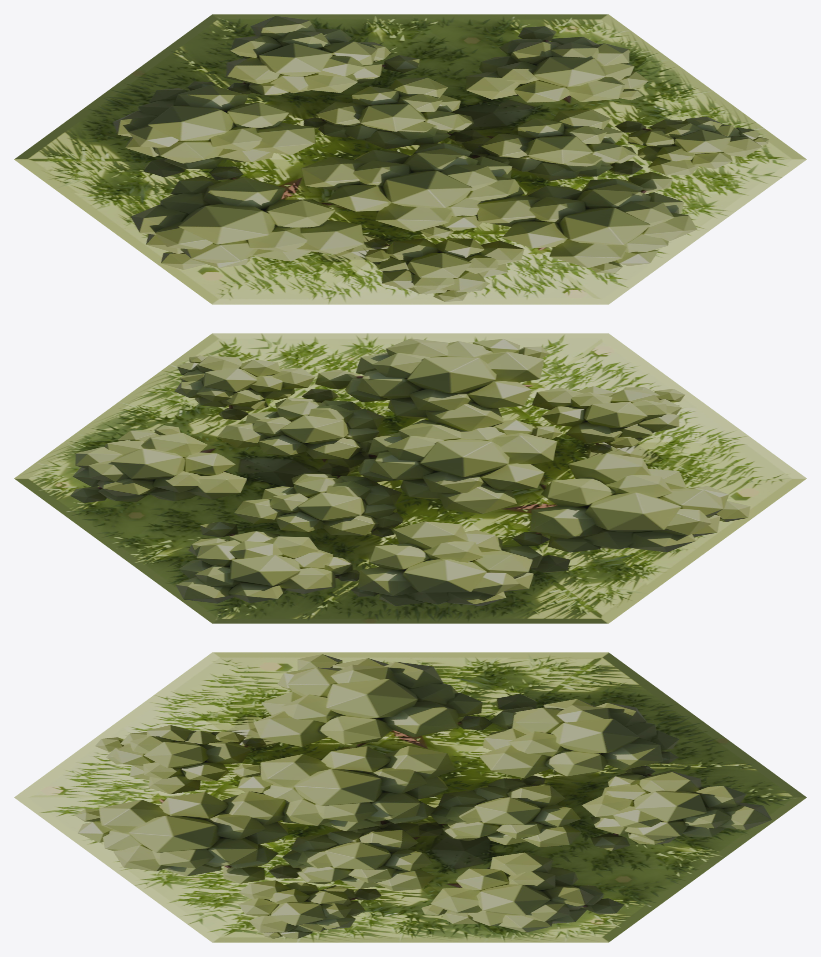
Rendered from deciduousForest.glb.
3 renders of one model, top to bottom at view 1: azimuth 30°, elevation 25°; view 2: azimuth 150°, elevation 25°; view 3: azimuth 270°, elevation 25°, orthographic.
Visible parts, largest first — view 1: Deciduousforest_flat; view 2: Deciduousforest_flat; view 3: Deciduousforest_flat.
Boxes of the visible parts, x1=… form: Deciduousforest_flat: x1=14, y1=14, x2=806, y2=304; Deciduousforest_flat: x1=14, y1=333, x2=806, y2=623; Deciduousforest_flat: x1=14, y1=652, x2=806, y2=942.
Size of the model in its own units: 1.73 by 0 by 2.
1 material, 1 textured.
